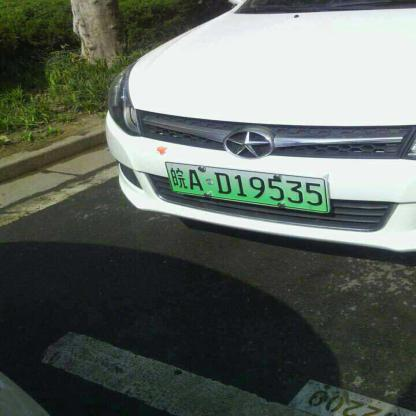lp: (164, 162, 328, 212)
